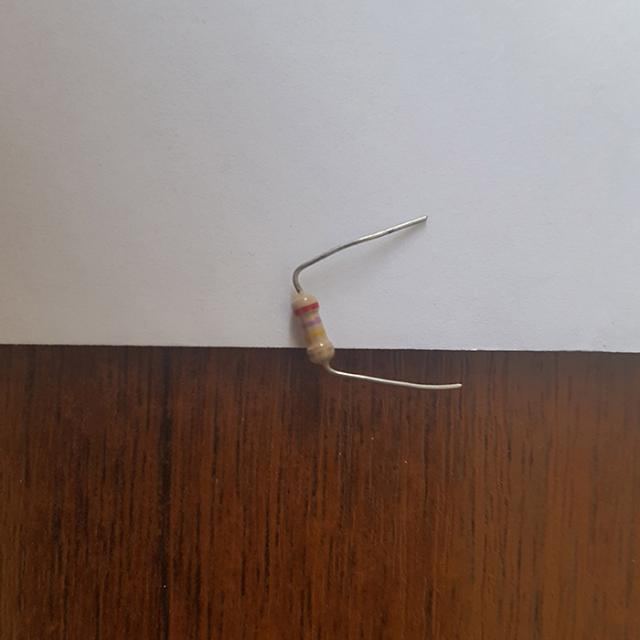gold: (310, 346, 334, 357)
red: (294, 302, 317, 314)
resistor: (279, 280, 345, 369)
violet: (301, 317, 319, 326)
yellow: (306, 330, 324, 339)
